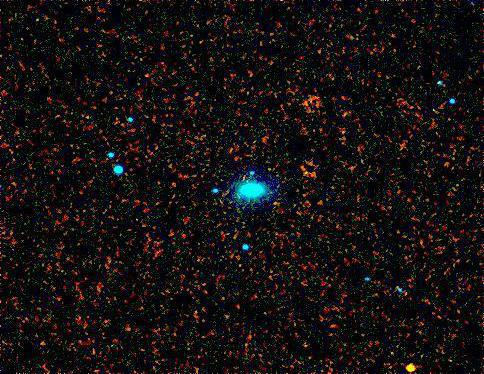star: (397, 353, 427, 374)
